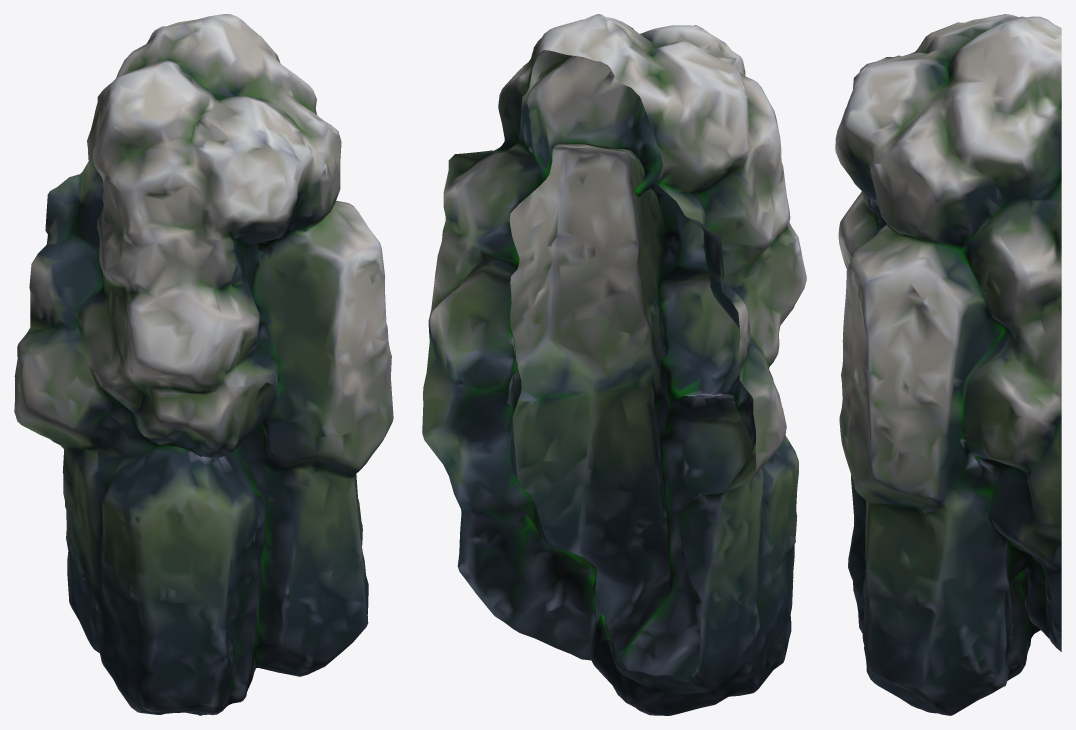
The model's file is M_Cliff_Rock_T18.fbx.
3 renders of one model, left to right at view 1: azimuth 30°, elevation 25°; view 2: azimuth 150°, elevation 25°; view 3: azimuth 270°, elevation 25°, orthographic. The views are drawn at different scales.
Visible parts, largest first — view 1: M_Cliff_Rock_T18; view 2: M_Cliff_Rock_T18; view 3: M_Cliff_Rock_T18.
Part boxes in pixels (<box>): M_Cliff_Rock_T18: <box>14,14,393,715</box>; M_Cliff_Rock_T18: <box>422,14,806,715</box>; M_Cliff_Rock_T18: <box>835,14,1061,715</box>.
Bounding box in the file's own units: 12.14 × 23.5 × 6.97.
